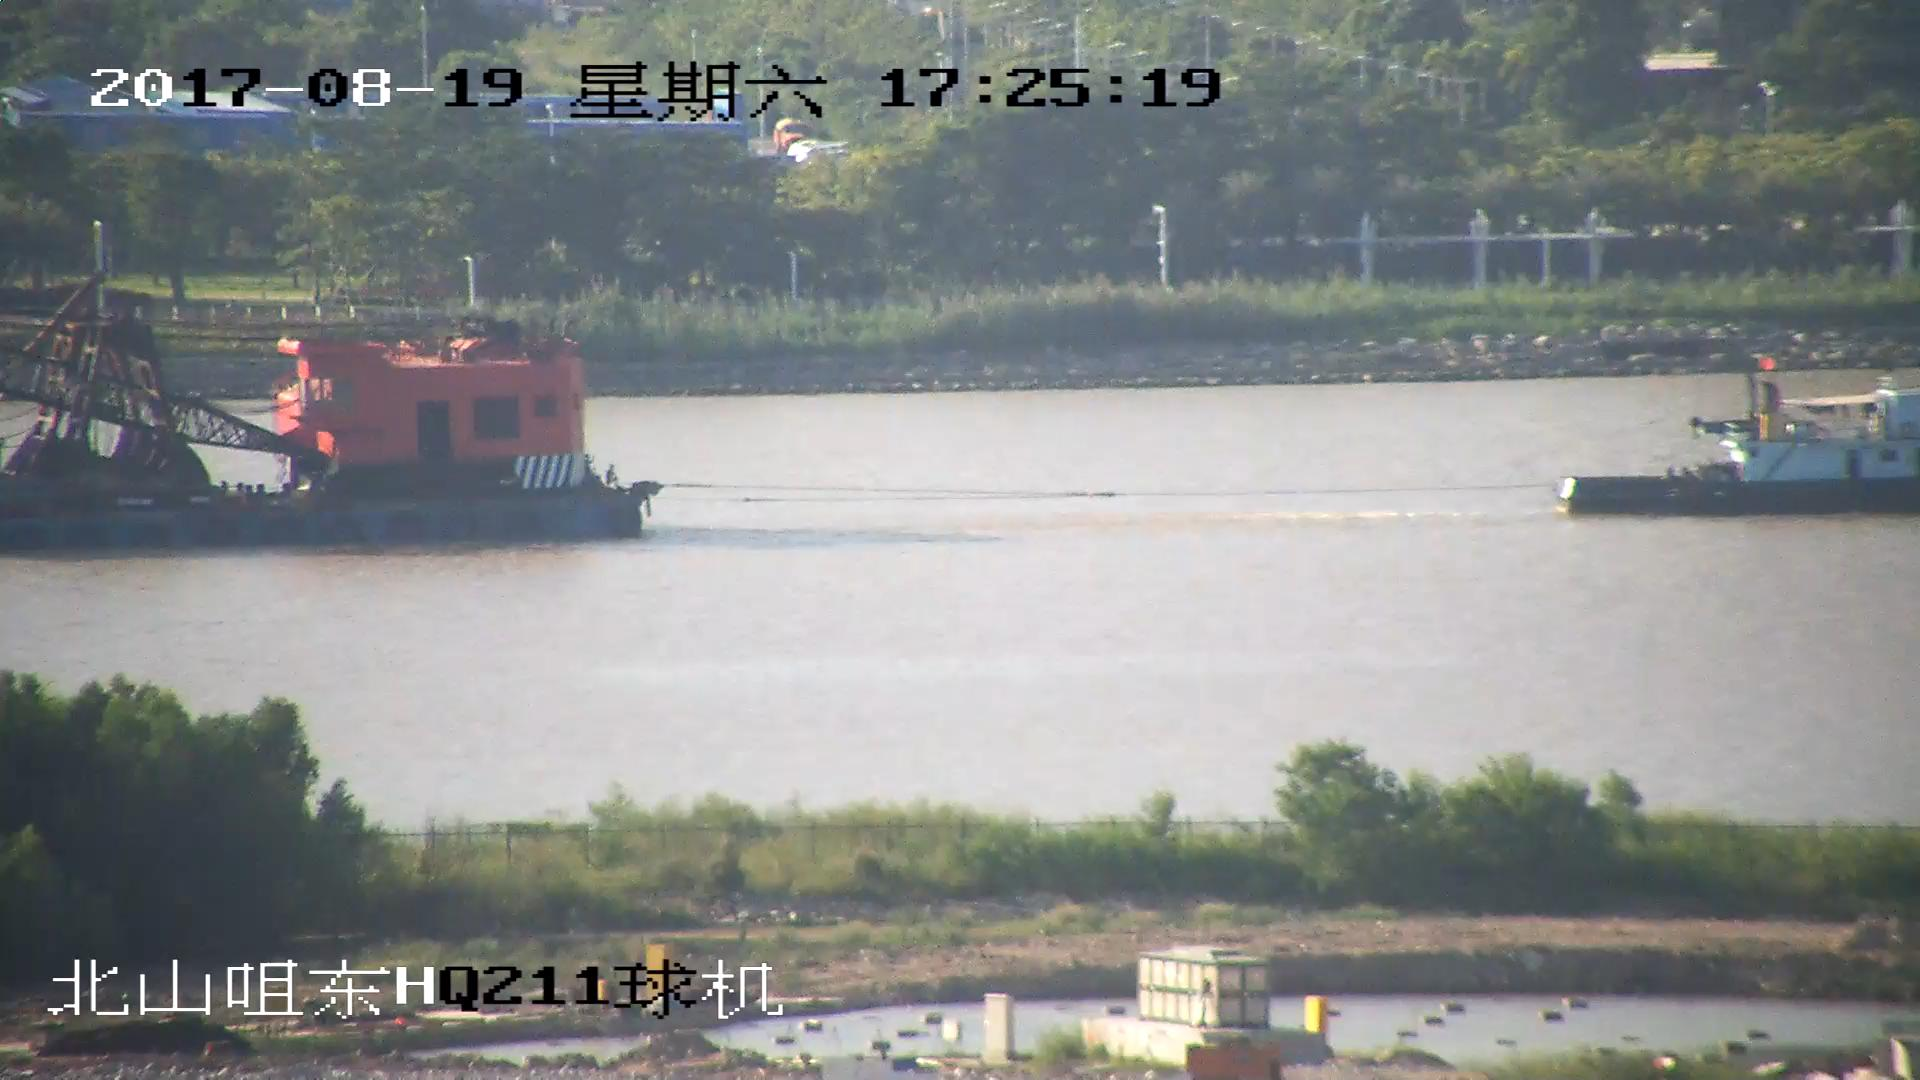fishing boat: (1, 276, 659, 545), (1555, 381, 1920, 514)
